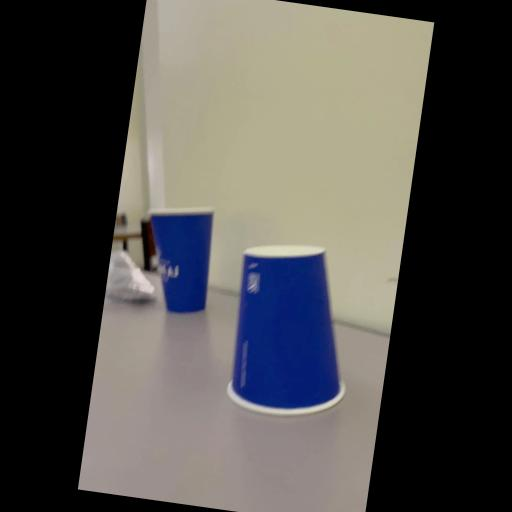lp_paper_cup: (123, 200, 367, 422), (223, 234, 367, 426), (134, 198, 220, 318)
